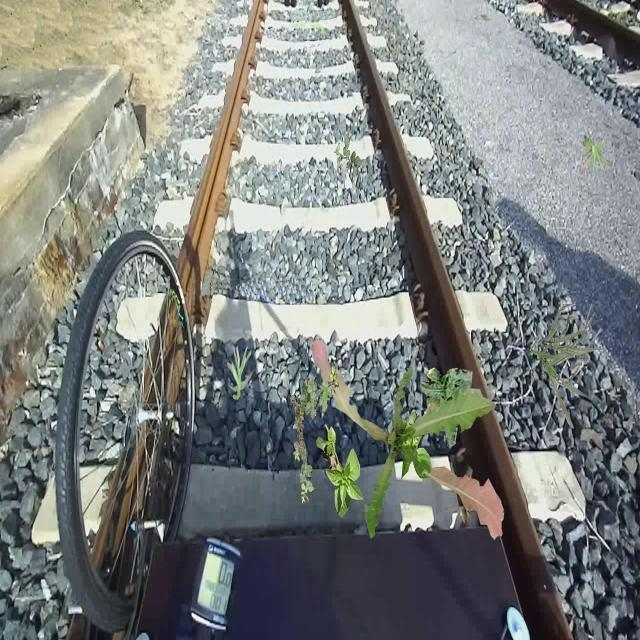Plant: (312, 338, 504, 540), (529, 304, 602, 428), (290, 367, 338, 505), (420, 368, 483, 451), (316, 424, 364, 519), (392, 410, 434, 481), (581, 134, 614, 180), (227, 344, 253, 401), (334, 134, 362, 175)
